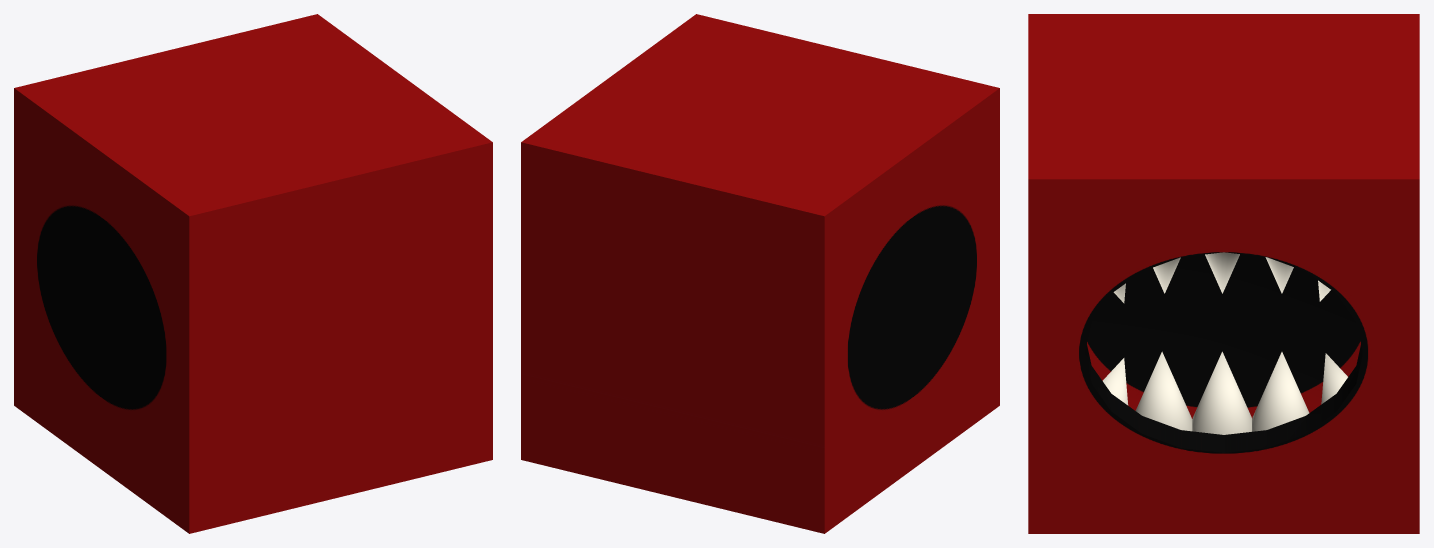
Rendered from Enemy_Cube.fbx.
The picture shows the model from 3 angles, left to right: view 1: azimuth 30°, elevation 25°; view 2: azimuth 150°, elevation 25°; view 3: azimuth 270°, elevation 25°; orthographic projection. The views are drawn at different scales.
Visible parts, largest first — view 1: pCube3; view 2: pCube3; view 3: pCube3, pCone2, pCone3, pCone1, pCone5, pCone9, pCone10, pCone4, pCone6.
Part boxes in pixels (box(x1,y1,x2,y2)): pCube3: box(14, 14, 492, 533); pCube3: box(521, 14, 999, 533); pCube3: box(1028, 14, 1419, 533); pCone2: box(1192, 351, 1251, 434); pCone3: box(1252, 352, 1309, 431); pCone1: box(1135, 351, 1192, 431); pCone5: box(1205, 252, 1239, 293); pCone9: box(1321, 353, 1347, 404); pCone10: box(1102, 358, 1128, 405); pCone4: box(1265, 257, 1293, 293); pCone6: box(1153, 257, 1180, 293).
Bounding box in the file's own units: 4.7 × 4.7 × 4.7.
